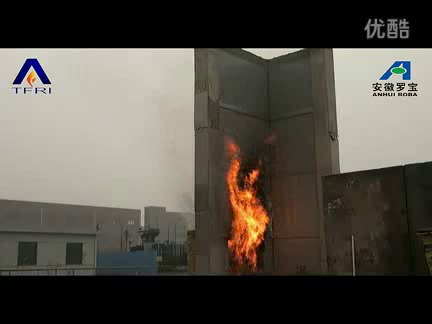fire: (221, 136, 274, 272)
